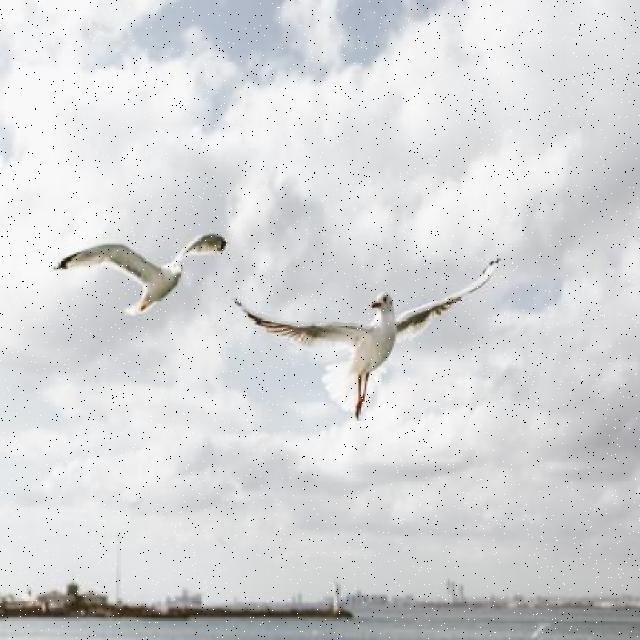bird: (236, 285, 482, 410), (58, 232, 228, 312)
